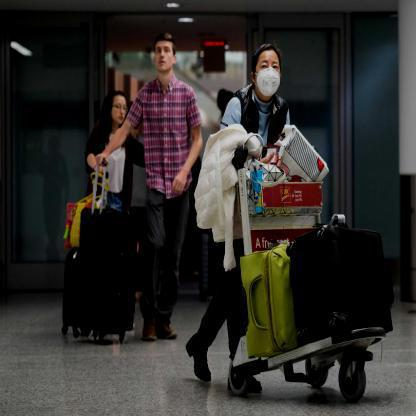with_mask: (247, 40, 285, 102)
without_mask: (151, 29, 179, 75), (102, 87, 128, 128)
